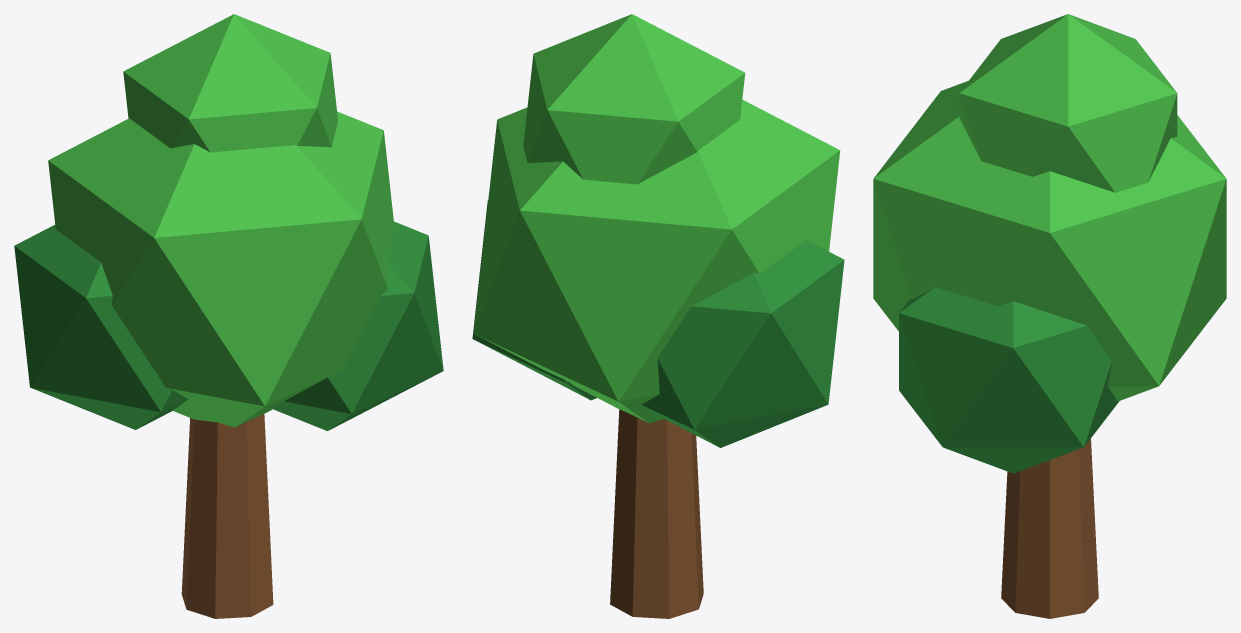
Rendered from Tree_Round.fbx.
The picture shows the model from 3 angles, left to right: view 1: azimuth 30°, elevation 25°; view 2: azimuth 150°, elevation 25°; view 3: azimuth 270°, elevation 25°; orthographic projection. The views are drawn at different scales.
Visible parts, largest first — view 1: Tree_Round; view 2: Tree_Round; view 3: Tree_Round.
Part boxes in pixels (<box>): Tree_Round: <box>14,14,443,618</box>; Tree_Round: <box>472,14,844,618</box>; Tree_Round: <box>873,14,1226,618</box>.
Size of the model in its own units: 7.12 by 10.7 by 5.78.
1 material, 1 textured.
